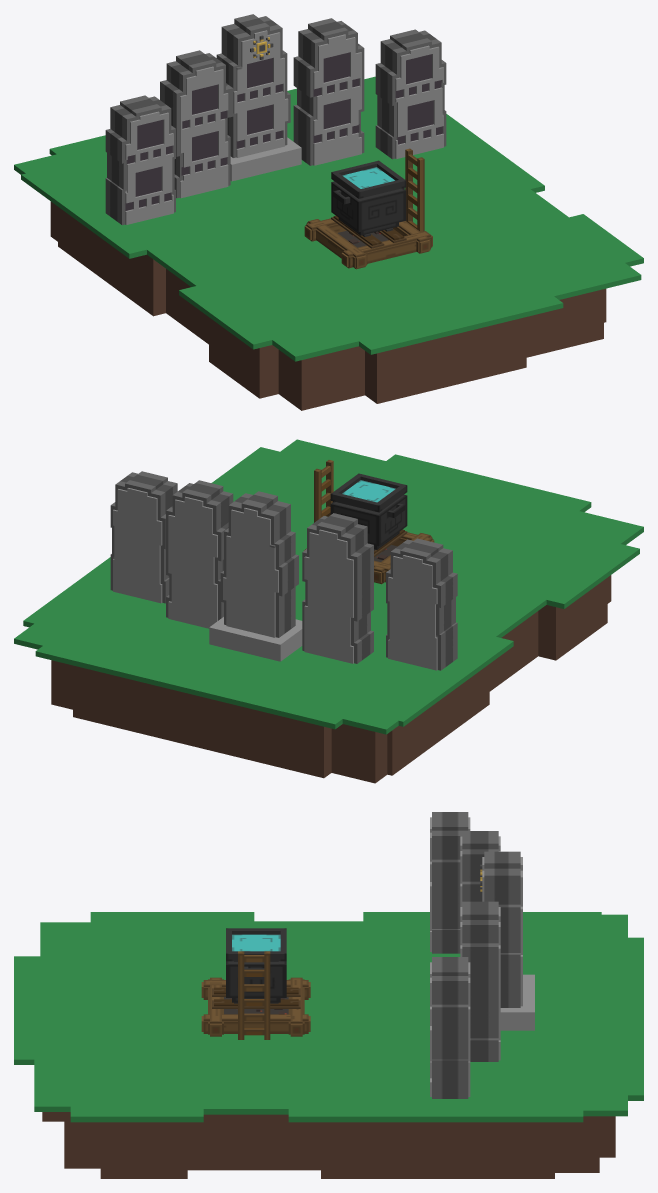
3 renders of one model, top to bottom at view 1: azimuth 30°, elevation 25°; view 2: azimuth 150°, elevation 25°; view 3: azimuth 270°, elevation 25°, orthographic. The views are drawn at different scales.
Visible parts, largest first — view 1: Ground, Island, Pillar_3, Pillar_4, Pillar_5, Pillar_1, Pillar_2, Pot, FirePit, Ladder, Water_1; view 2: Ground, Island, Pillar_3, Pillar_2, Pillar_1, Pillar_4, Pillar_5, Pot, Ladder, FirePit, Water_1; view 3: Ground, Island, Pillar_5, Pillar_3, Pillar_4, Pillar_1, FirePit, Pot, Ladder, Pillar_2, Water_1, Plank_1.
Boxes of the visible parts, x1,y1,x2,y2 form: Ground: (14, 76, 643, 361); Island: (50, 201, 606, 410); Pillar_3: (216, 14, 301, 181); Pillar_4: (293, 18, 364, 165); Pillar_5: (375, 29, 446, 159); Pillar_1: (105, 95, 175, 225); Pillar_2: (160, 50, 230, 198); Pot: (331, 160, 406, 236); FirePit: (304, 218, 432, 269); Ladder: (405, 148, 424, 231); Water_1: (342, 167, 394, 188); Ground: (14, 439, 643, 734); Island: (51, 575, 611, 783); Pillar_3: (209, 491, 302, 661); Pillar_2: (302, 513, 373, 663); Pillar_1: (386, 538, 457, 670); Pillar_4: (166, 480, 233, 628); Pillar_5: (110, 471, 177, 603); Pot: (330, 473, 407, 550); Ladder: (314, 460, 333, 522); FirePit: (304, 532, 434, 584); Water_1: (342, 480, 395, 502); Ground: (14, 912, 643, 1122); Island: (42, 1112, 615, 1178); Pillar_5: (430, 957, 470, 1098); Pillar_3: (480, 851, 534, 1030); Pillar_4: (460, 901, 500, 1061); Pillar_1: (430, 812, 470, 953); FirePit: (201, 977, 310, 1036); Pot: (226, 928, 286, 1003); Ladder: (238, 951, 270, 1039); Pillar_2: (460, 831, 500, 906); Water_1: (232, 934, 280, 951); Plank_1: (212, 999, 300, 1008).
Bounding box in the file's own units: 240 × 125 × 312.
1 material, 1 textured.
